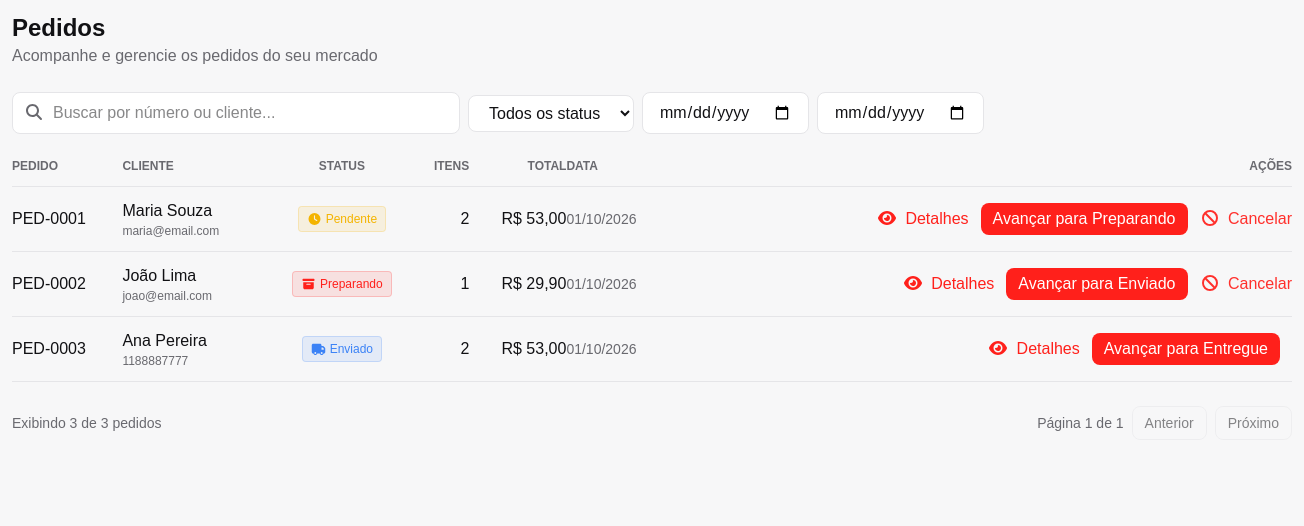
OrdersPage — avanço de status › mostra o erro da API e não altera o status visual em caso de falha
Expected: the button "PED-0001" is shown, [12, 207, 86, 231]
Click the button "Avançar para Preparando".
click(1084, 219)  # box [981, 203, 1188, 235]
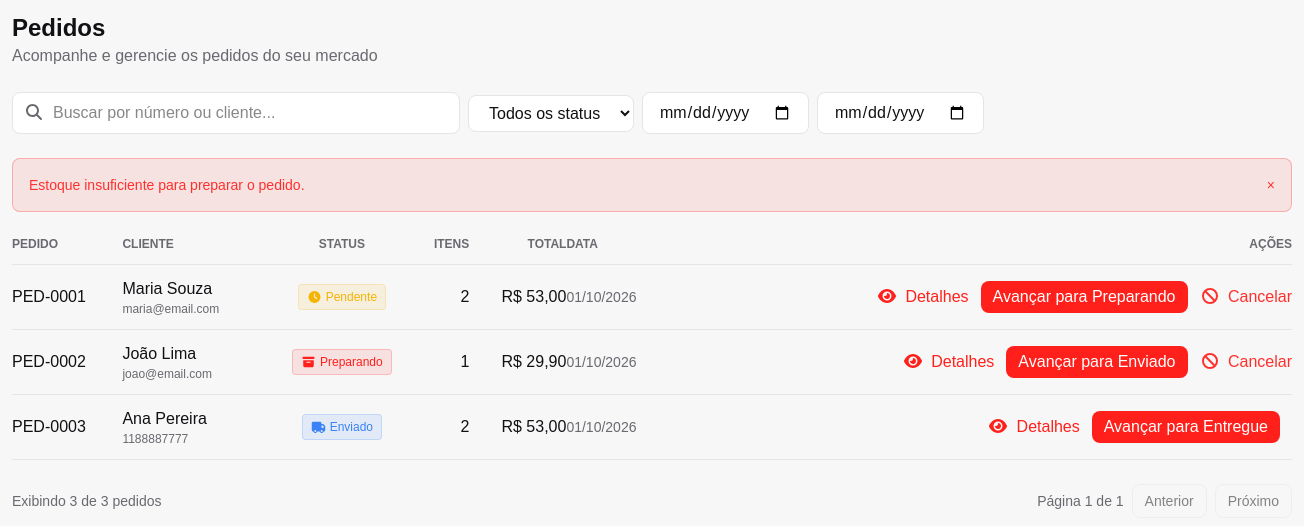
Expected: the text "Pendente" is shown, [298, 284, 386, 310]
Expected: the text "Estoque insuficiente para preparar o pedido." is shown, [29, 175, 304, 195]
